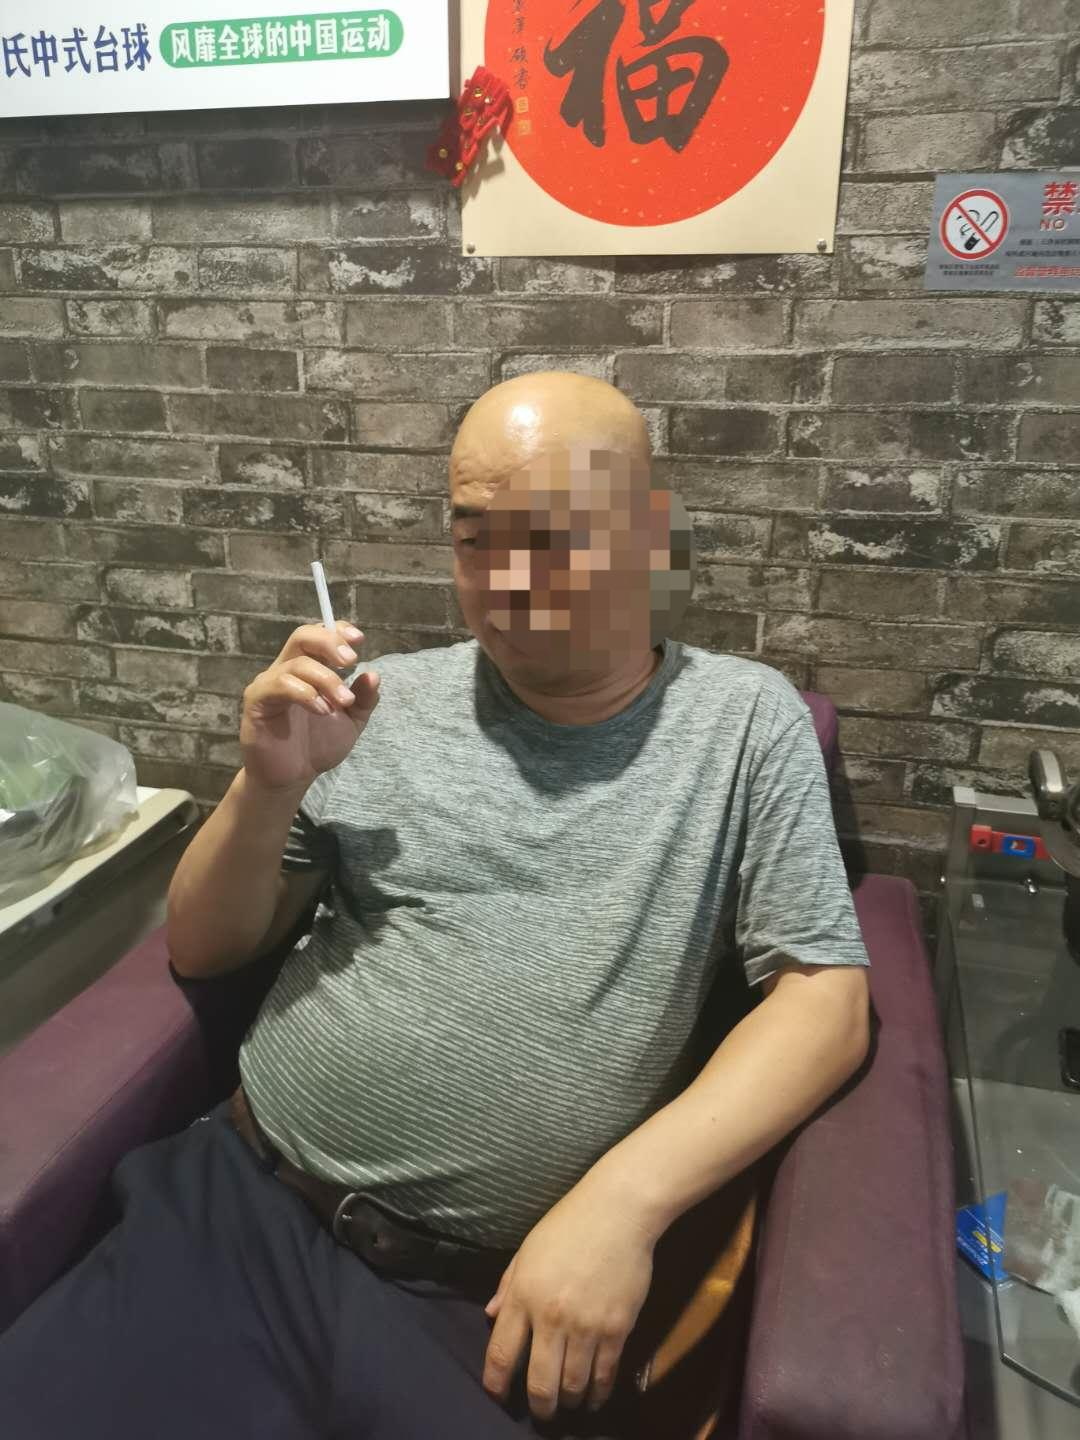smoke: (309, 558, 340, 625)
